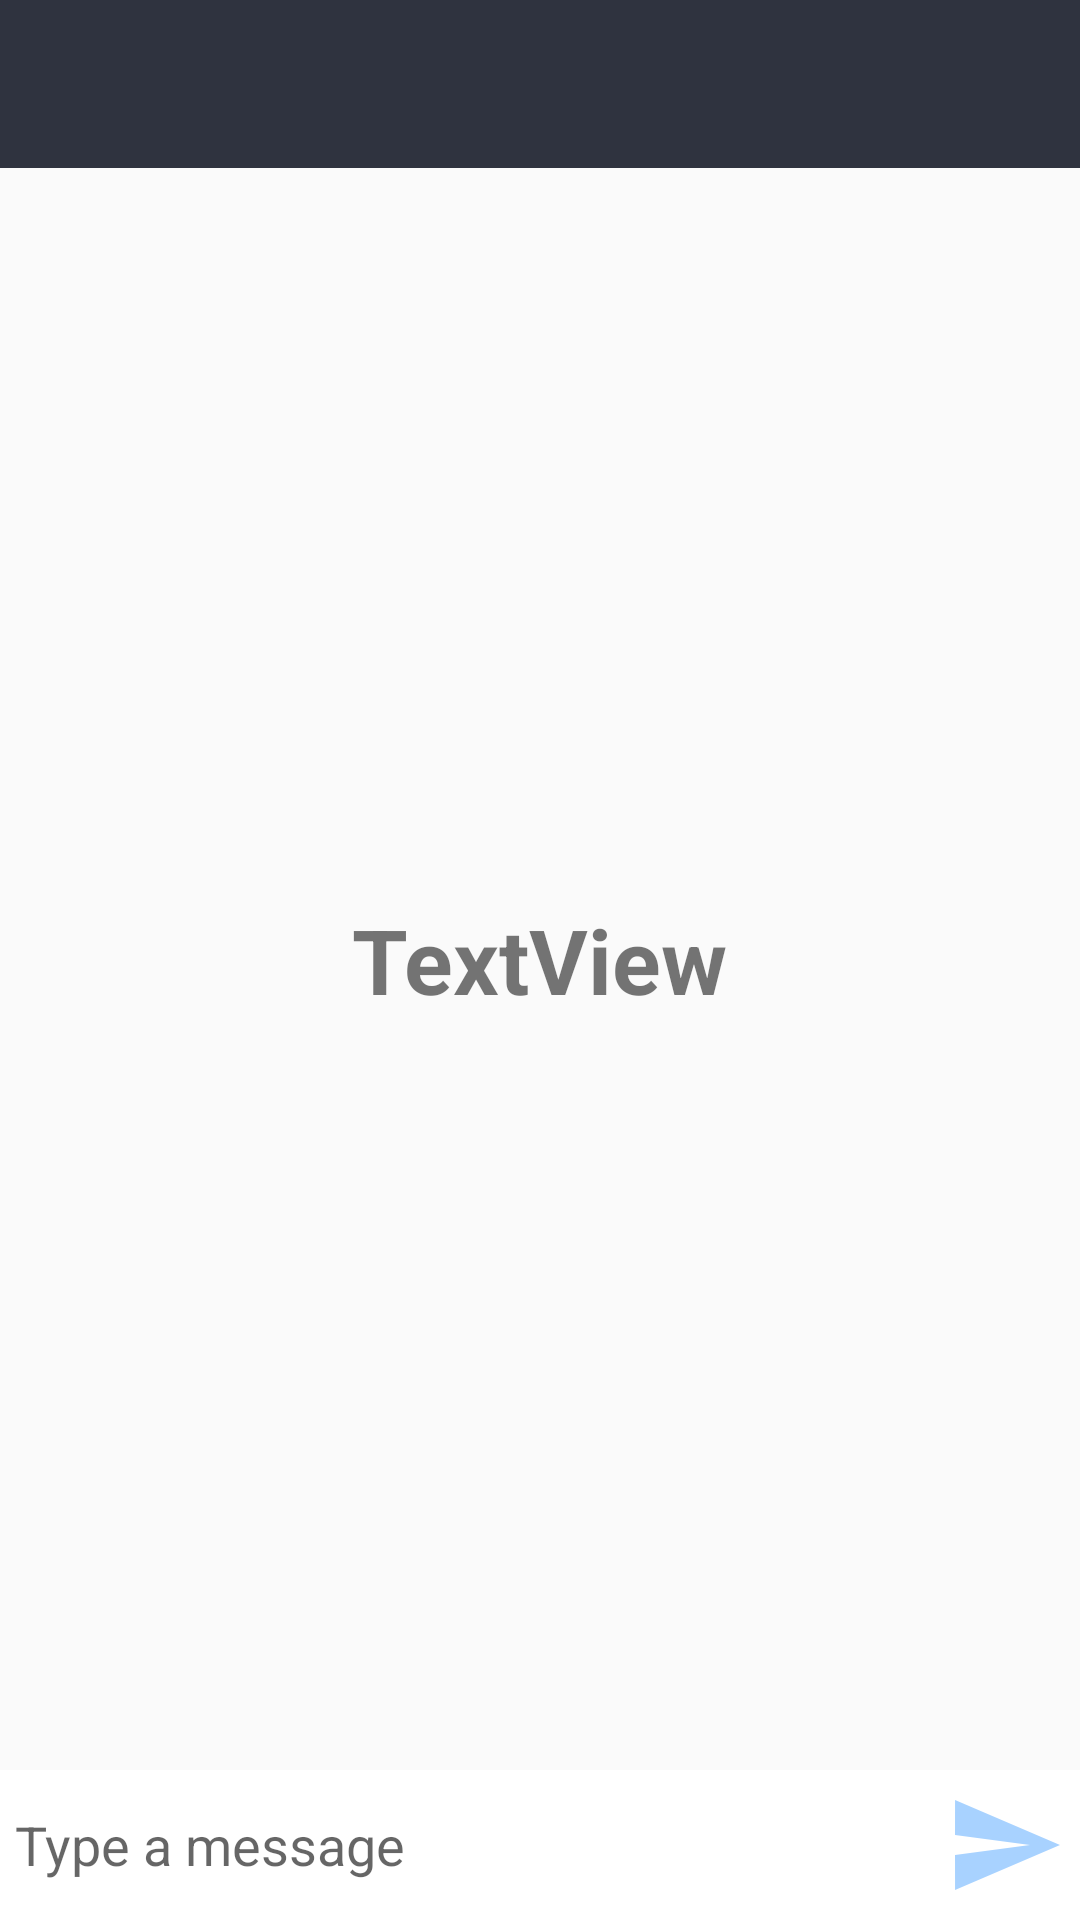

Locate icon controls on the screen. Image size 1080*1920, boxes as bbox=(x1, y1, x2, y2).
send message: bbox=(955, 1800, 1059, 1890)
